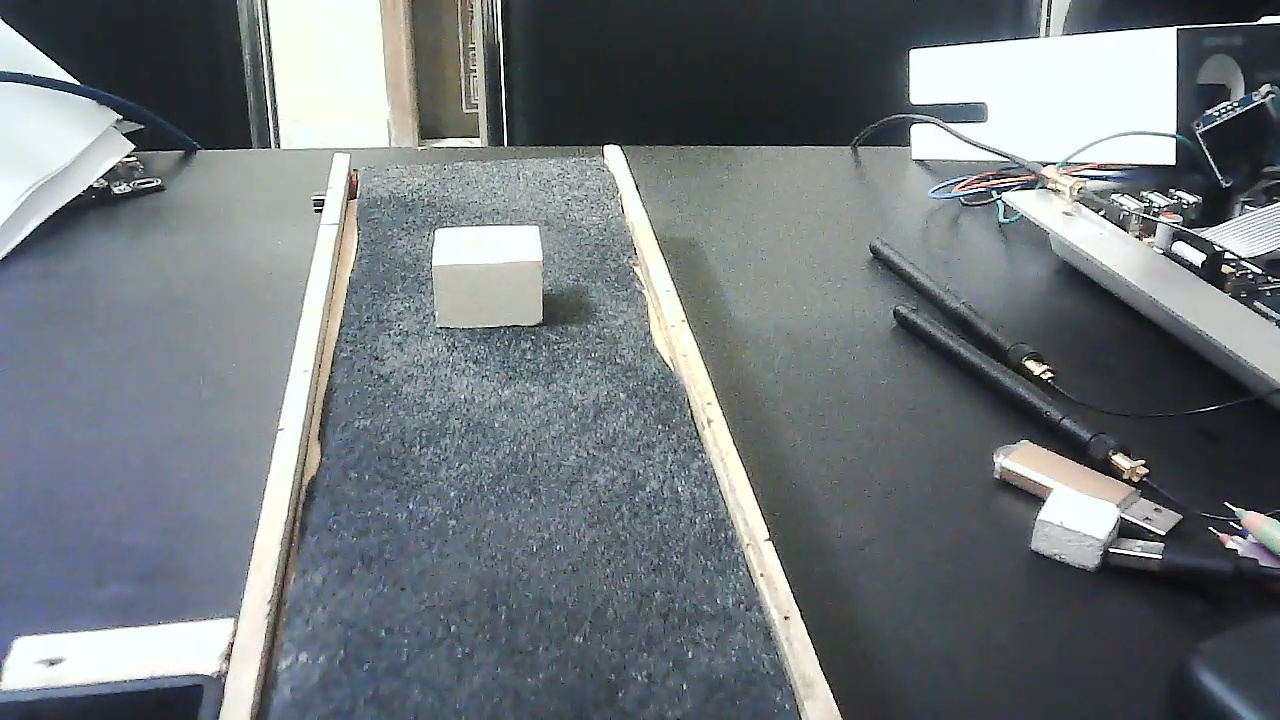Medium: (433, 221, 544, 332)
